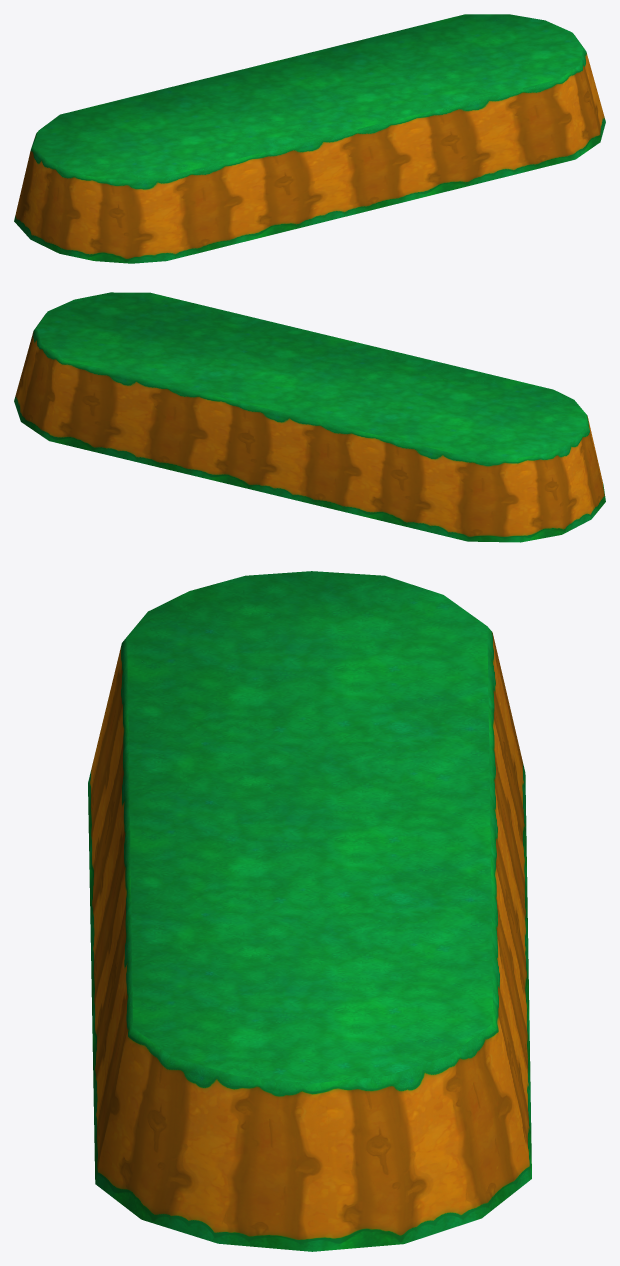
Rendered from Hill01_d01.FBX.
The picture shows the model from 3 angles, top to bottom: view 1: azimuth 30°, elevation 25°; view 2: azimuth 150°, elevation 25°; view 3: azimuth 270°, elevation 25°; orthographic projection. The views are drawn at different scales.
Visible parts, largest first — view 1: Hill01_d01; view 2: Hill01_d01; view 3: Hill01_d01.
Part boxes in pixels (box(x1,y1,x2,y2)): Hill01_d01: box(14, 14, 605, 263); Hill01_d01: box(14, 292, 605, 542); Hill01_d01: box(88, 571, 531, 1251).
Size of the model in its own units: 1995 by 256 by 685.
Materials: 2 (2 with a texture image).
